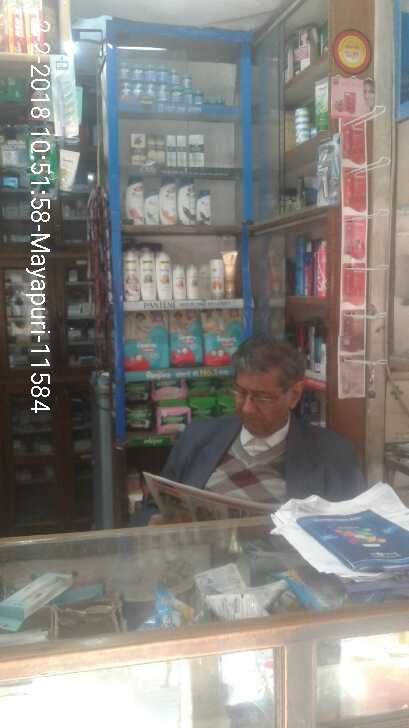vicks: (117, 57, 210, 109)
